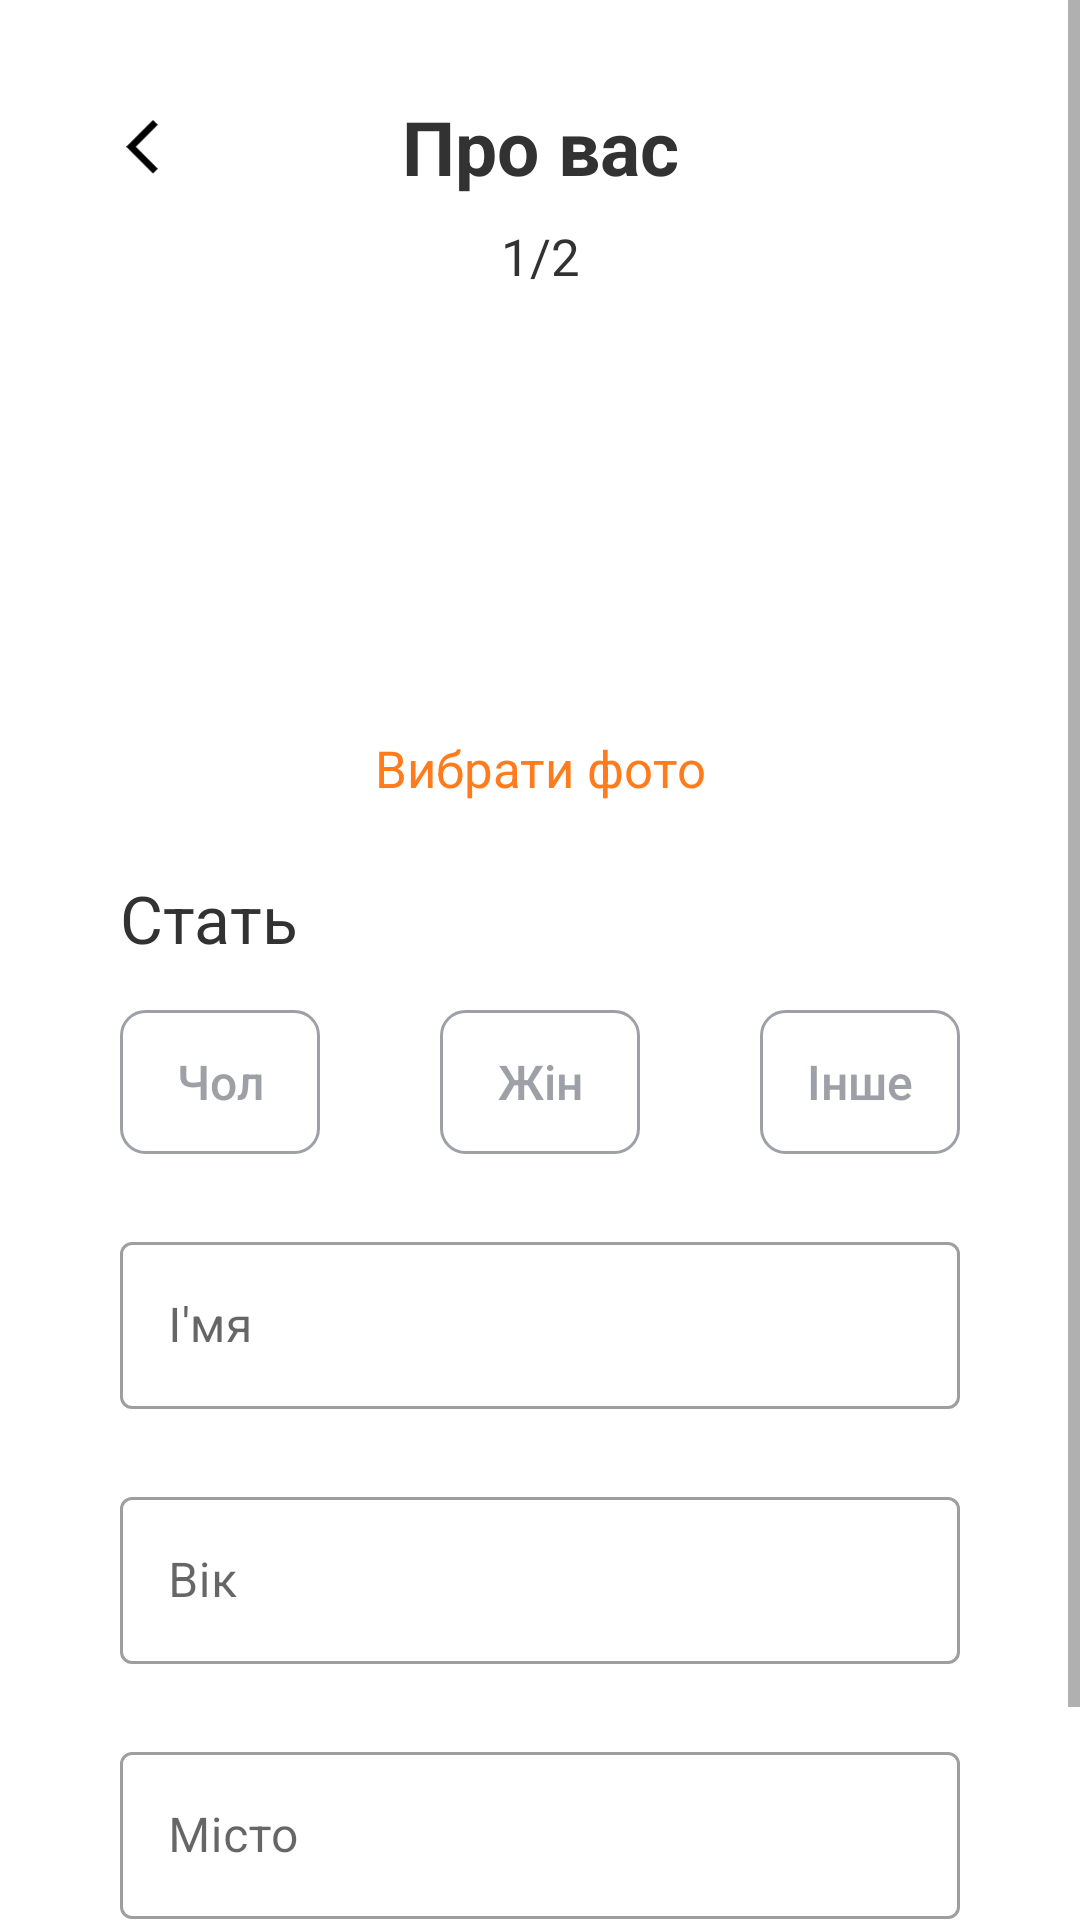

Where to tap for icons on this 1080 x 1920 app screen, as point (x, y):
back arrow: point (142, 147)
